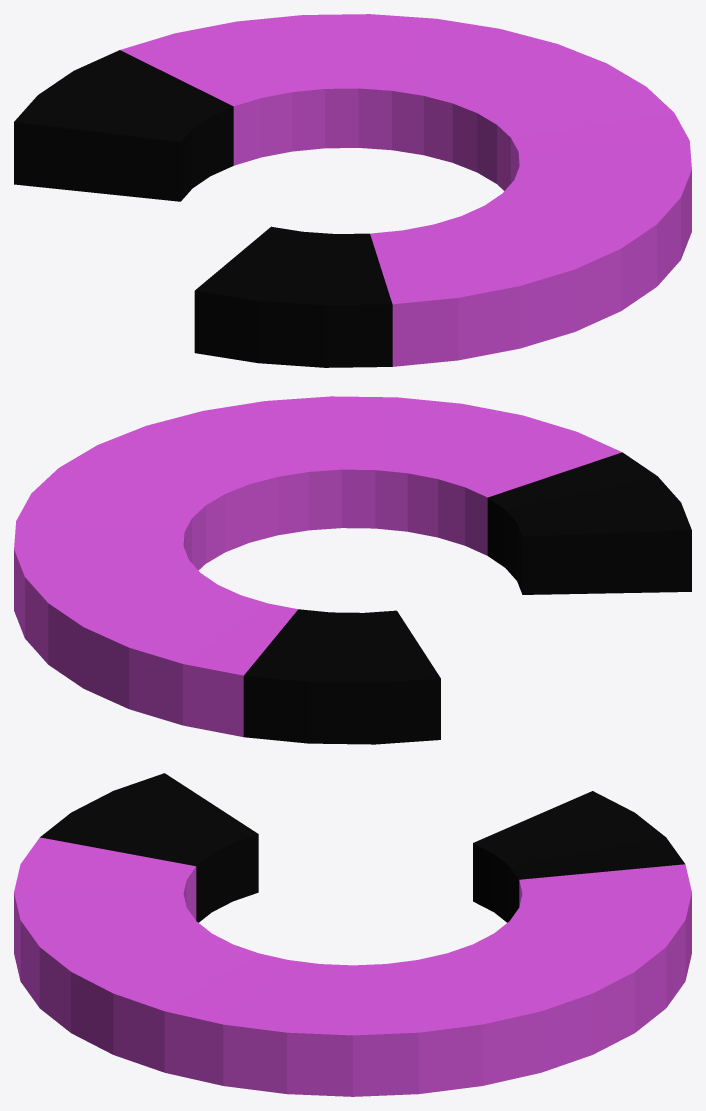
The model's file is assest_1.glb.
The picture shows the model from 3 angles, top to bottom: view 1: azimuth 30°, elevation 25°; view 2: azimuth 150°, elevation 25°; view 3: azimuth 270°, elevation 25°; orthographic projection.
Parts seen in each view (by area): view 1: Cylinder, Cylinder.001; view 2: Cylinder, Cylinder.001; view 3: Cylinder, Cylinder.001.
Part boxes in pixels (box(x1,y1,x2,y2)): Cylinder: box(120, 14, 691, 366); Cylinder.001: box(14, 50, 392, 367); Cylinder: box(14, 396, 621, 736); Cylinder.001: box(243, 452, 691, 744); Cylinder: box(14, 837, 691, 1096); Cylinder.001: box(40, 773, 684, 922).
Size of the model in its own units: 3.66 by 0.4 by 4.
